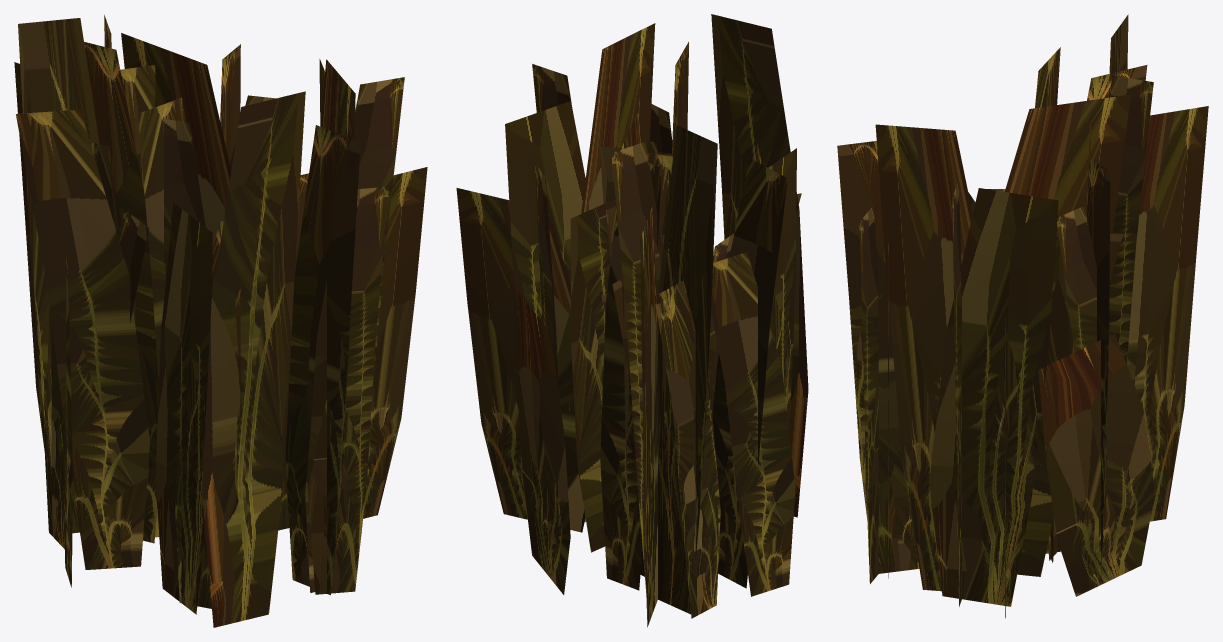
Rendered from meadow_grass_001_b_LOD1.gltf.
3 views of the same model, side by side, from view 1: azimuth 30°, elevation 25°; view 2: azimuth 150°, elevation 25°; view 3: azimuth 270°, elevation 25° (orthographic). The views are drawn at different scales.
Parts seen in each view (by area): view 1: meadow_grass_001_b_LOD1; view 2: meadow_grass_001_b_LOD1; view 3: meadow_grass_001_b_LOD1.
Part boxes in pixels (box(x1,y1,x2,y2)): meadow_grass_001_b_LOD1: box(14, 15, 427, 627); meadow_grass_001_b_LOD1: box(456, 14, 808, 627); meadow_grass_001_b_LOD1: box(837, 14, 1208, 618).
Size of the model in its own units: 0.8757 by 1.13 by 0.7895.
1 material, 1 textured.
